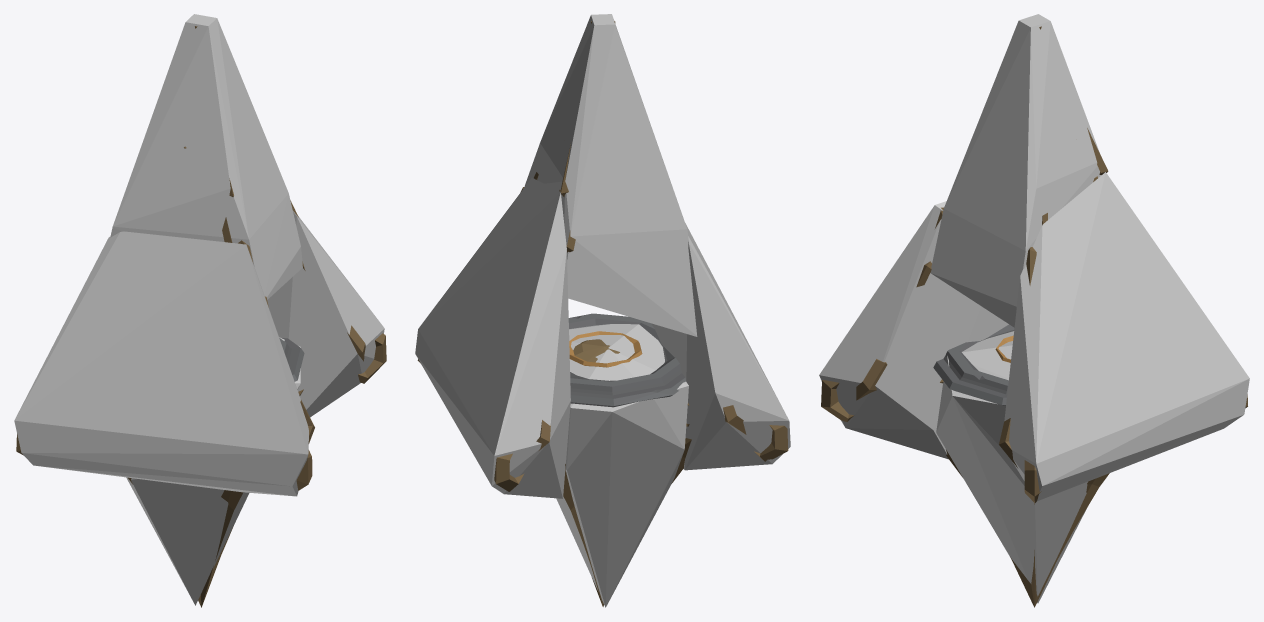
The model's file is SM_Prop_OfferingShrine_02.fbx.
3 renders of one model, left to right at view 1: azimuth 30°, elevation 25°; view 2: azimuth 150°, elevation 25°; view 3: azimuth 270°, elevation 25°, orthographic.
Visible parts, largest first — view 1: SM_Prop_OfferingShrine_02_ConvexHulls, SM_Prop_OfferingShrine_02; view 2: SM_Prop_OfferingShrine_02_ConvexHulls, SM_Prop_OfferingShrine_02; view 3: SM_Prop_OfferingShrine_02_ConvexHulls, SM_Prop_OfferingShrine_02.
Boxes of the visible parts, x1,y1,x2,y2 form: SM_Prop_OfferingShrine_02_ConvexHulls: (14, 14, 384, 605); SM_Prop_OfferingShrine_02: (16, 26, 386, 607); SM_Prop_OfferingShrine_02_ConvexHulls: (415, 14, 790, 607); SM_Prop_OfferingShrine_02: (417, 21, 788, 606); SM_Prop_OfferingShrine_02_ConvexHulls: (819, 14, 1249, 603); SM_Prop_OfferingShrine_02: (821, 26, 1247, 607).
Bounding box in the file's own units: 195 × 196 × 294.
2 materials, 1 textured.
